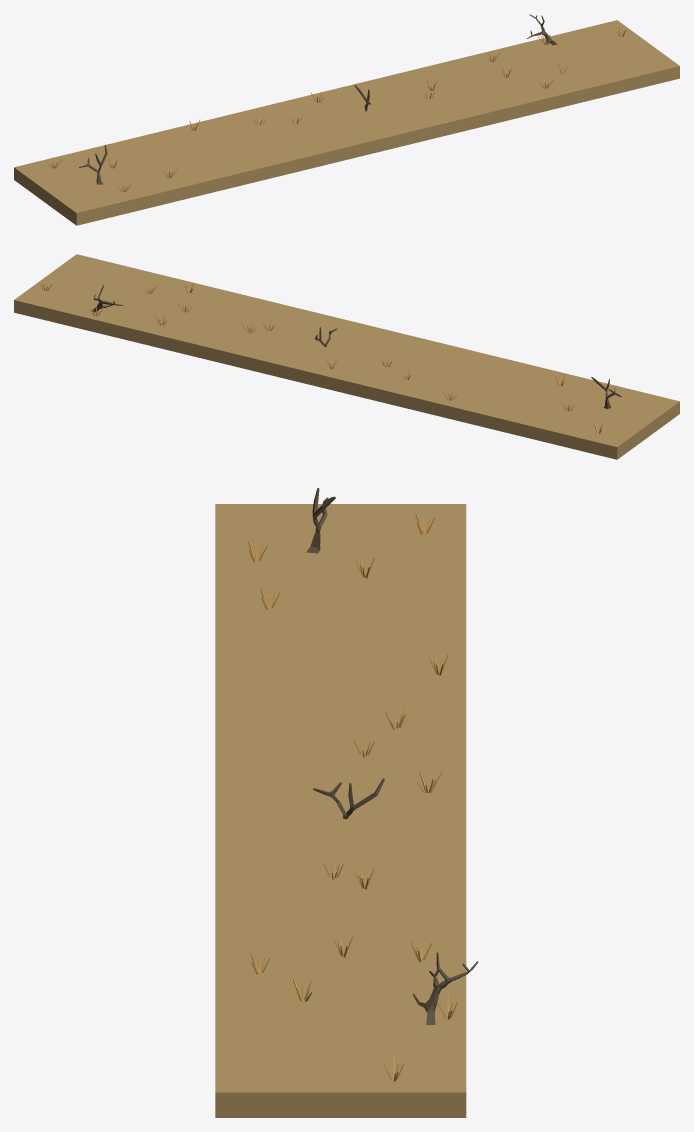
Rendered from Fora-Desolação-4.glb.
The picture shows the model from 3 angles, top to bottom: view 1: azimuth 30°, elevation 25°; view 2: azimuth 150°, elevation 25°; view 3: azimuth 270°, elevation 25°; orthographic projection. The views are drawn at different scales.
Parts seen in each view (by area): view 1: CHAOFORA.004; view 2: CHAOFORA.004; view 3: CHAOFORA.004.
Boxes of the visible parts, x1,y1,x2,y2 form: CHAOFORA.004: [14, 20, 679, 225]; CHAOFORA.004: [14, 254, 679, 459]; CHAOFORA.004: [215, 504, 466, 1117].
Size of the model in its own units: 50 by 3.77 by 9.44.
